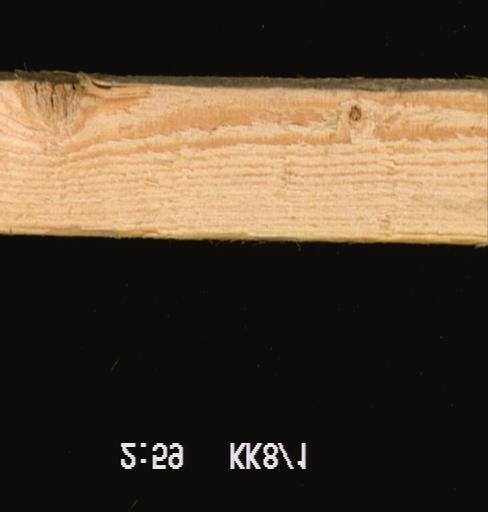dry_knot: (346, 104, 362, 124)
edge_knot: (12, 73, 113, 139)
